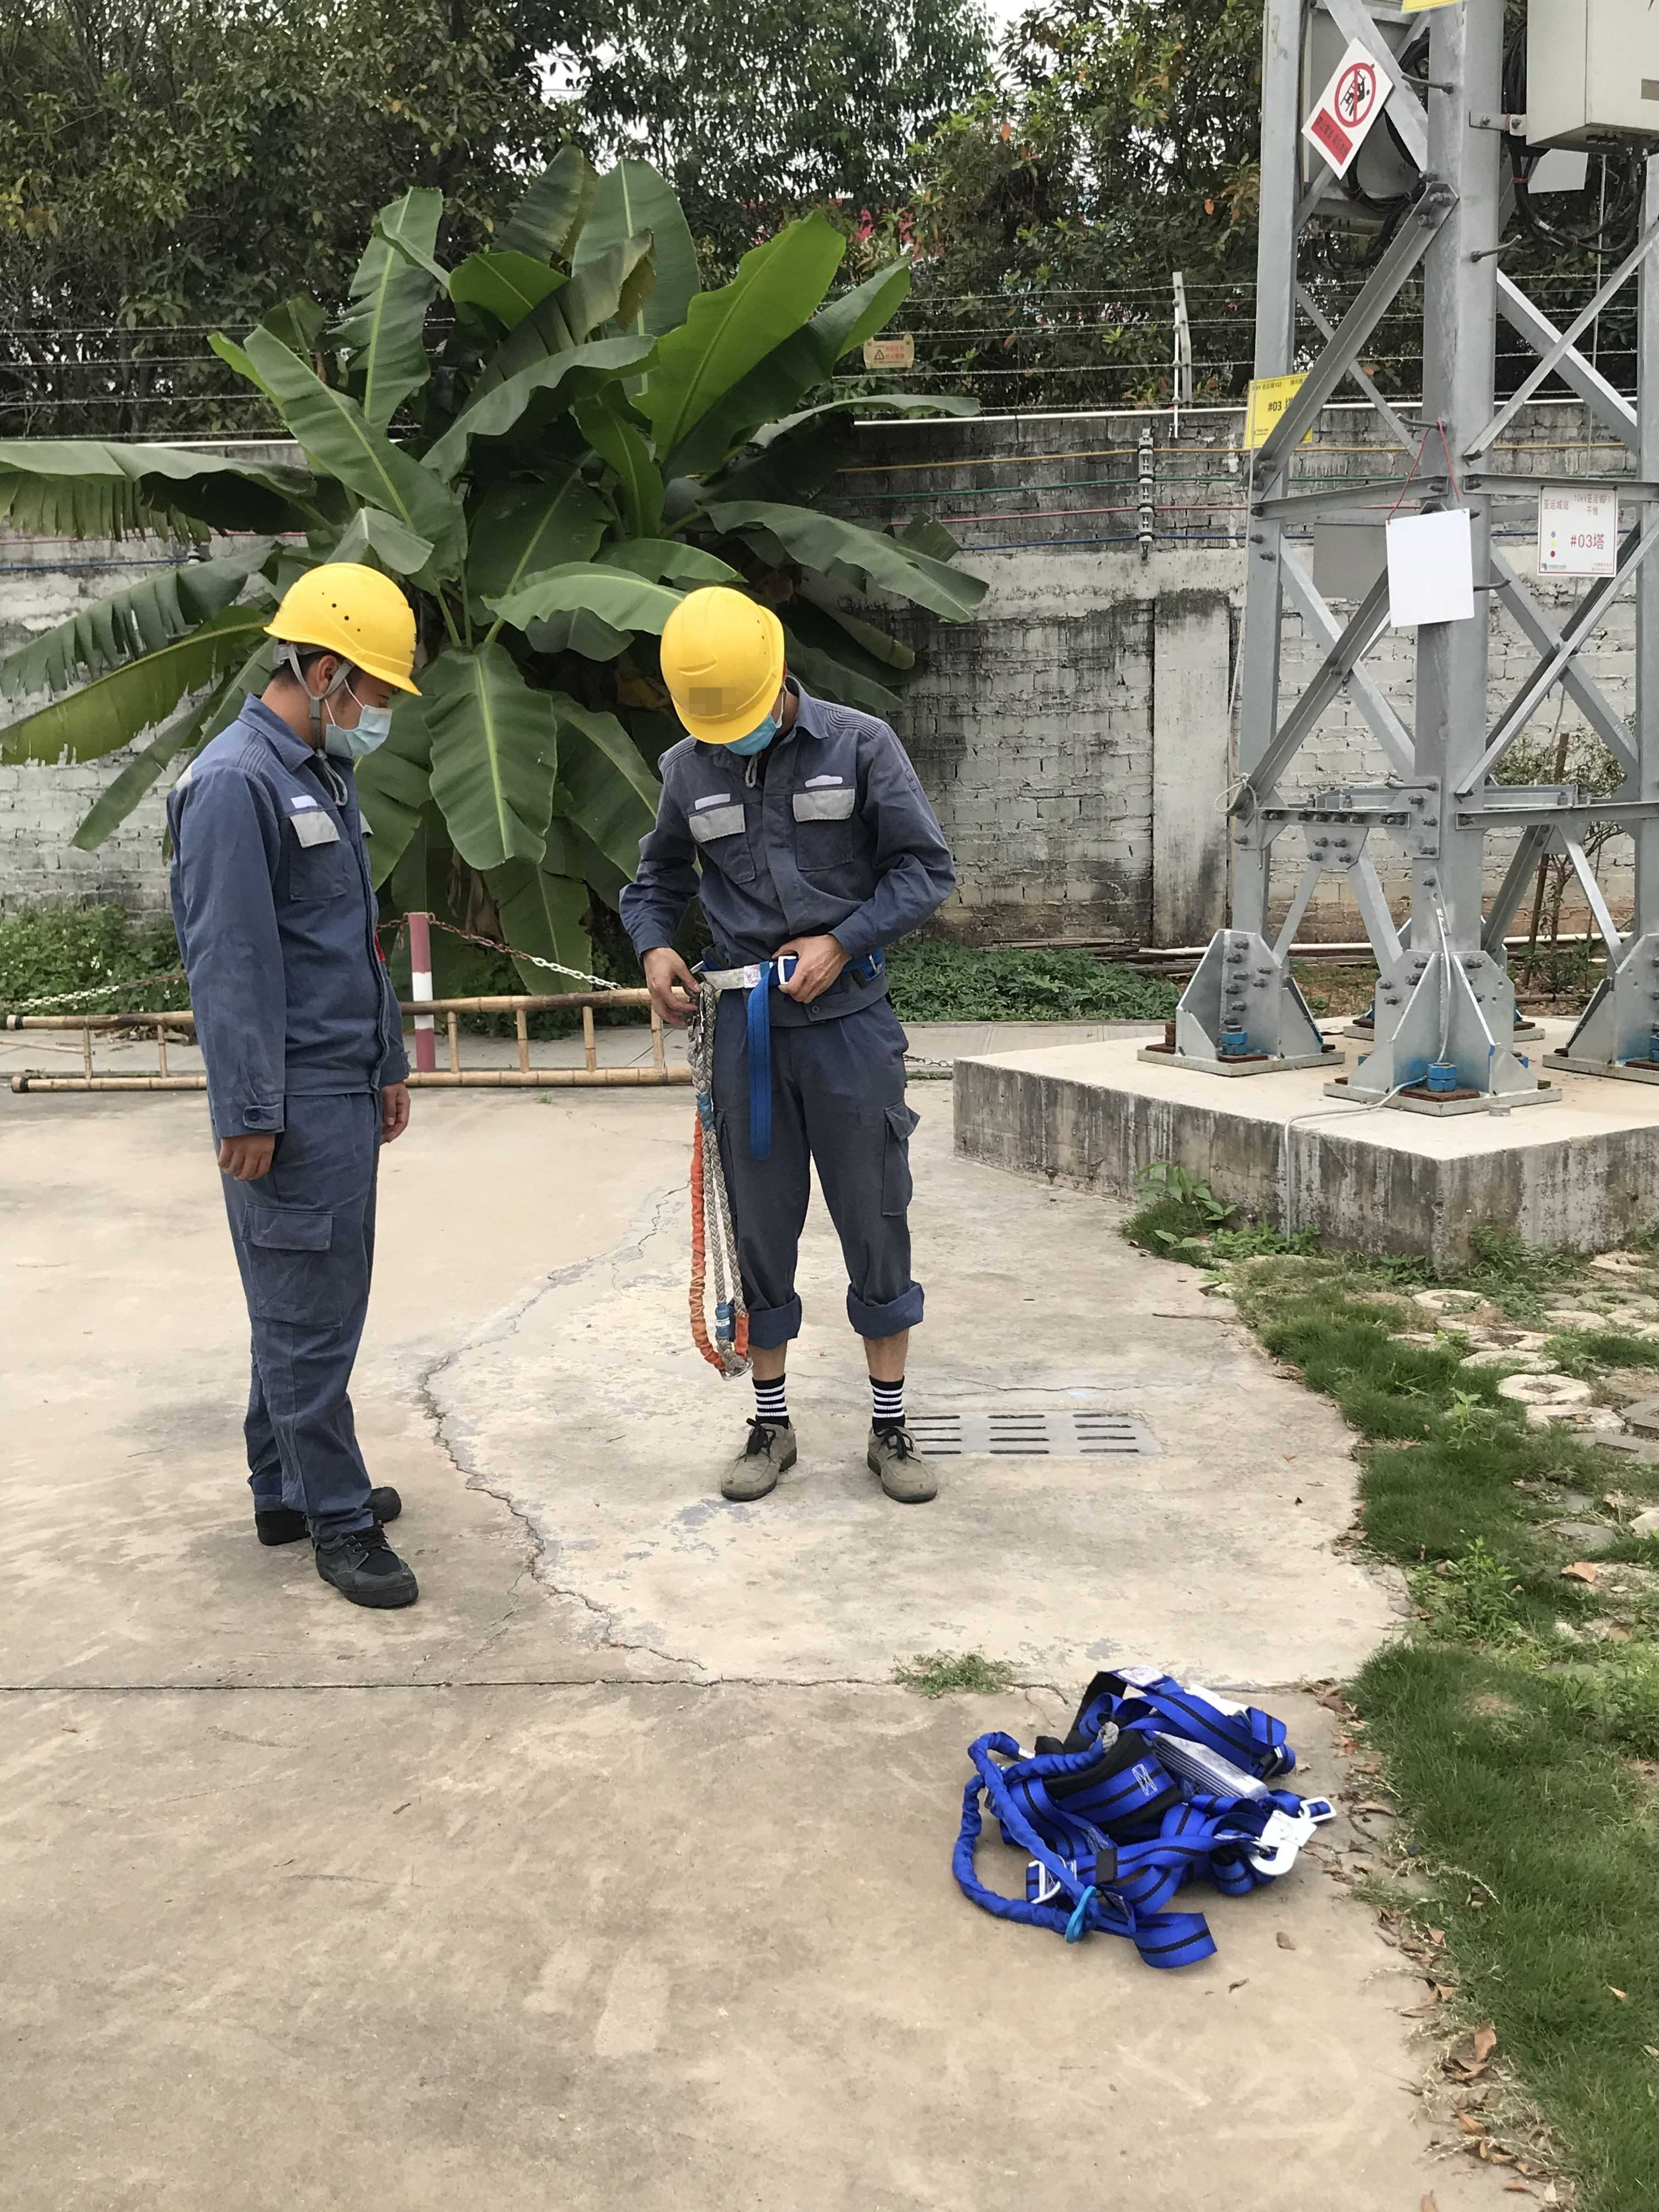downsuit: (709, 1015, 934, 1353), (218, 1118, 392, 1527)
upsuit: (619, 697, 958, 1005), (171, 712, 404, 1106)
wrongbottom: (843, 1289, 925, 1413), (735, 1280, 810, 1409)
